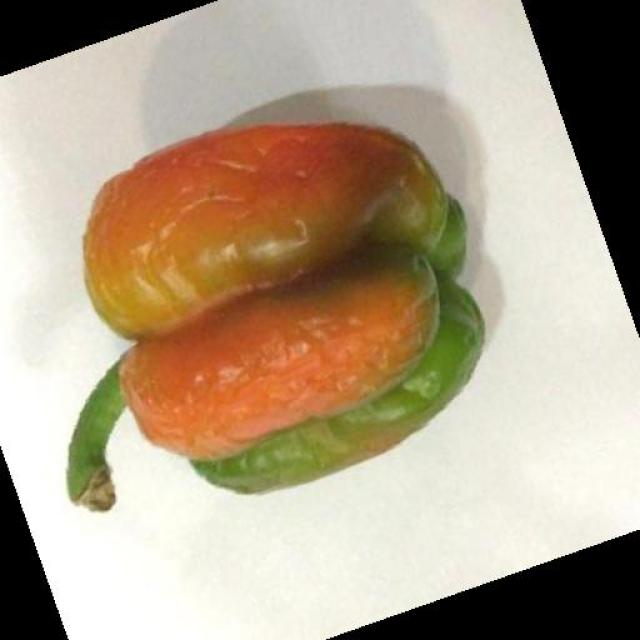Stale_Capsicum: (72, 137, 493, 497)
